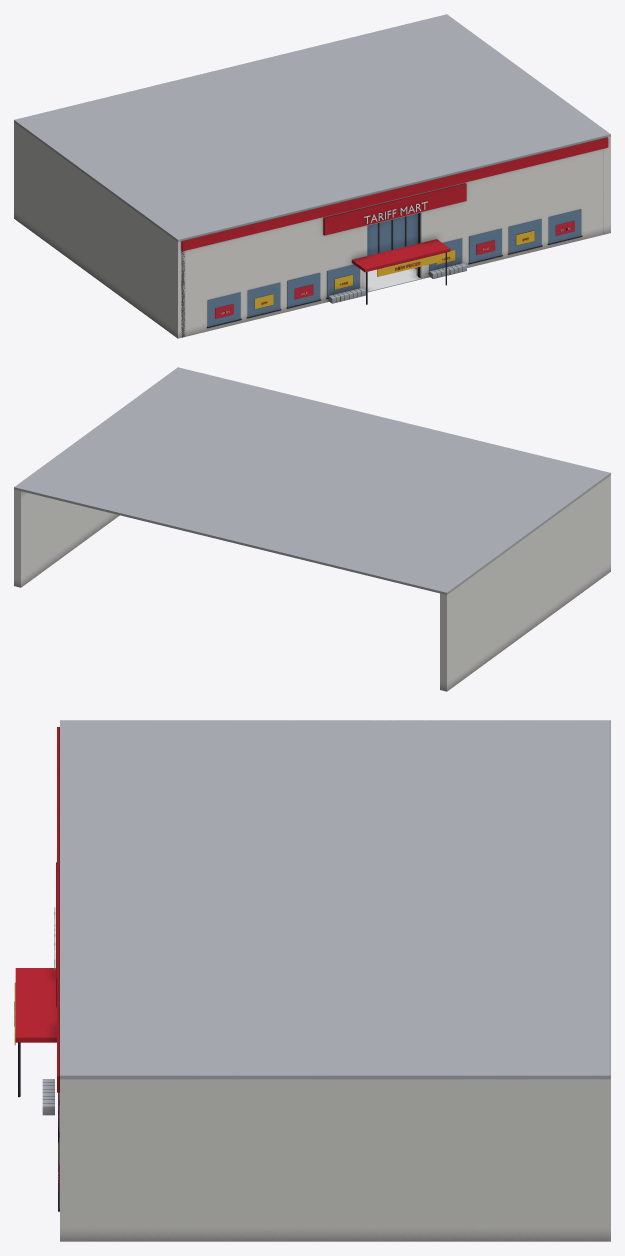
The model's file is super_entrada.glb.
3 renders of one model, top to bottom at view 1: azimuth 30°, elevation 25°; view 2: azimuth 150°, elevation 25°; view 3: azimuth 270°, elevation 25°, orthographic. The views are drawn at different scales.
Visible parts, largest first — view 1: super_entrada; view 2: super_entrada; view 3: super_entrada.
Part boxes in pixels (left/top/right/bottom): super_entrada: left=14, top=14, right=610, bottom=338; super_entrada: left=14, top=367, right=610, bottom=691; super_entrada: left=14, top=720, right=610, bottom=1241.
Size of the model in its own units: 61 by 13.3 by 43.33.
1 material, 1 textured.
